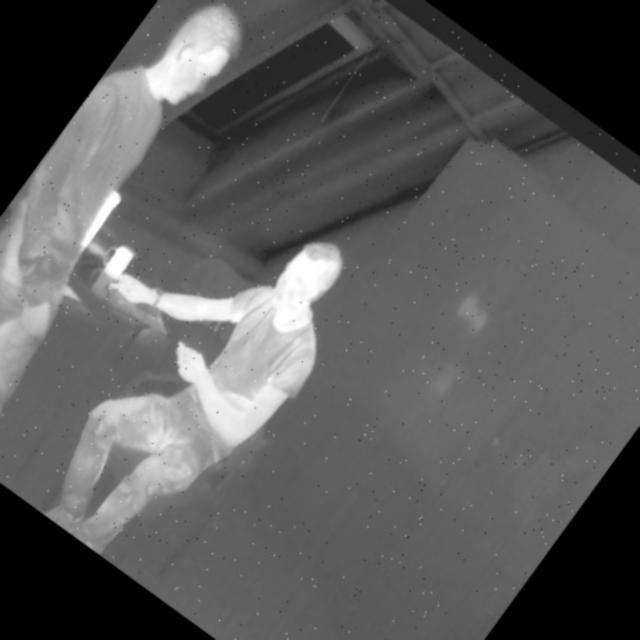person: (0, 153, 380, 593), (0, 0, 314, 474)
